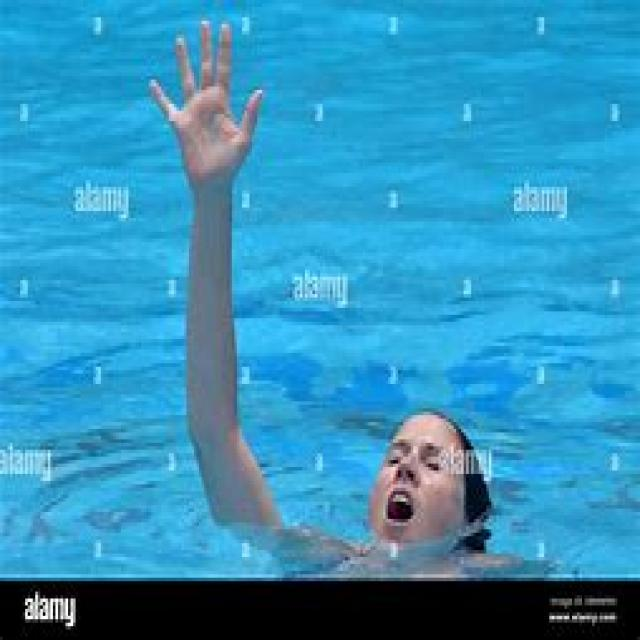Drowning: (145, 26, 517, 564)
